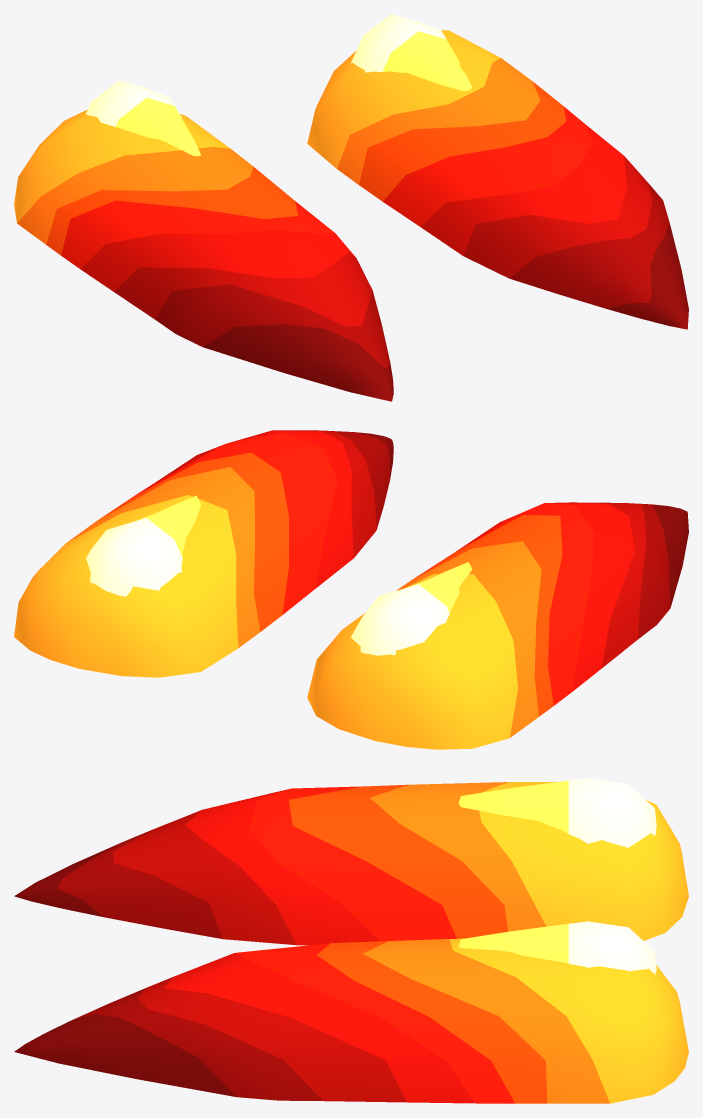
File: shot_pulse_2.glb
3 views of the same model, one above another, from view 1: azimuth 30°, elevation 25°; view 2: azimuth 150°, elevation 25°; view 3: azimuth 270°, elevation 25° (orthographic). The views are drawn at different scales.
Parts seen in each view (by area): view 1: shot_pulse_2_bolt0, shot_pulse_2_bolt1, shot_pulse_2_core1, shot_pulse_2_core0; view 2: shot_pulse_2_bolt0, shot_pulse_2_bolt1, shot_pulse_2_core1, shot_pulse_2_core0; view 3: shot_pulse_2_bolt1, shot_pulse_2_bolt0, shot_pulse_2_core0, shot_pulse_2_core1.
Part boxes in pixels (x1,y1,x2,y2): shot_pulse_2_bolt0: [14, 109, 393, 401]; shot_pulse_2_bolt1: [307, 30, 688, 329]; shot_pulse_2_core1: [351, 14, 472, 91]; shot_pulse_2_core0: [85, 80, 200, 156]; shot_pulse_2_bolt0: [307, 502, 688, 749]; shot_pulse_2_bolt1: [14, 430, 393, 677]; shot_pulse_2_core1: [86, 495, 201, 596]; shot_pulse_2_core0: [350, 562, 472, 655]; shot_pulse_2_bolt1: [14, 938, 688, 1103]; shot_pulse_2_bolt0: [14, 782, 688, 945]; shot_pulse_2_core0: [458, 778, 656, 847]; shot_pulse_2_core1: [458, 921, 656, 974].
Bounding box in the file's own units: 10 × 2.24 × 11.
